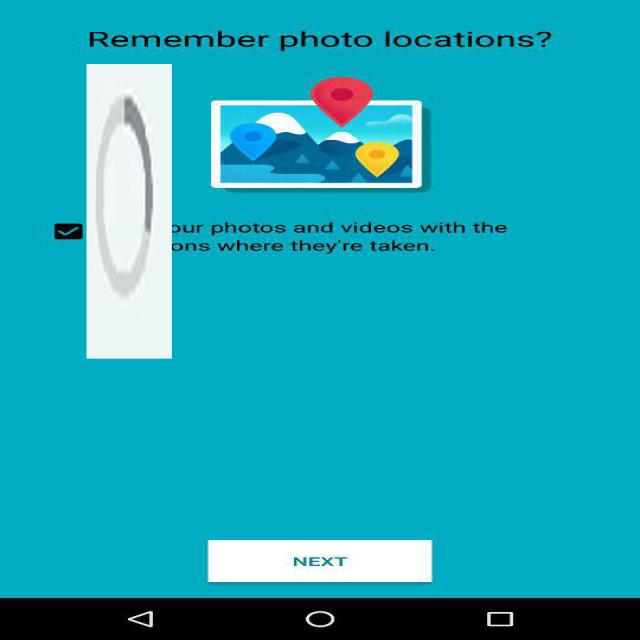misdirection: (86, 64, 172, 359)
